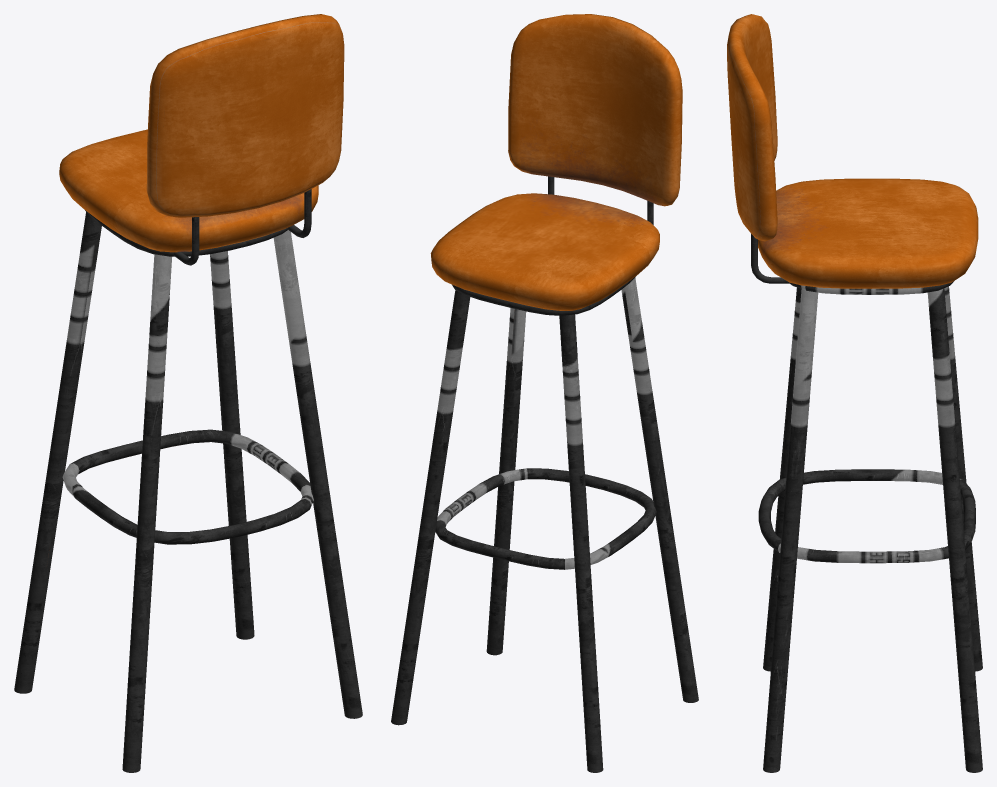
The model's file is SM_BarChairOrange1.fbx.
3 views of the same model, side by side, from view 1: azimuth 30°, elevation 25°; view 2: azimuth 150°, elevation 25°; view 3: azimuth 270°, elevation 25° (orthographic). The views are drawn at different scales.
Visible parts, largest first — view 1: SM_BarChairOrange1_LOD0; view 2: SM_BarChairOrange1_LOD0; view 3: SM_BarChairOrange1_LOD0.
Boxes of the visible parts, left/top/right/bottom form: SM_BarChairOrange1_LOD0: left=14, top=14, right=362, bottom=772; SM_BarChairOrange1_LOD0: left=391, top=14, right=698, bottom=772; SM_BarChairOrange1_LOD0: left=727, top=14, right=982, bottom=772.
Bounding box in the file's own units: 32.92 × 32.74 × 96.6.
Materials: 1 (1 with a texture image).
